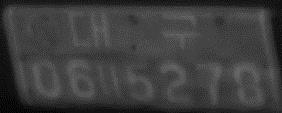0: (31, 59, 62, 100)
2: (158, 61, 194, 104)
5: (123, 59, 156, 104)
6: (65, 58, 95, 101)
7: (194, 61, 226, 107)
8: (231, 60, 268, 108)
다: (96, 62, 125, 100)
대구_D: (67, 8, 202, 51)
영: (24, 12, 62, 51)
